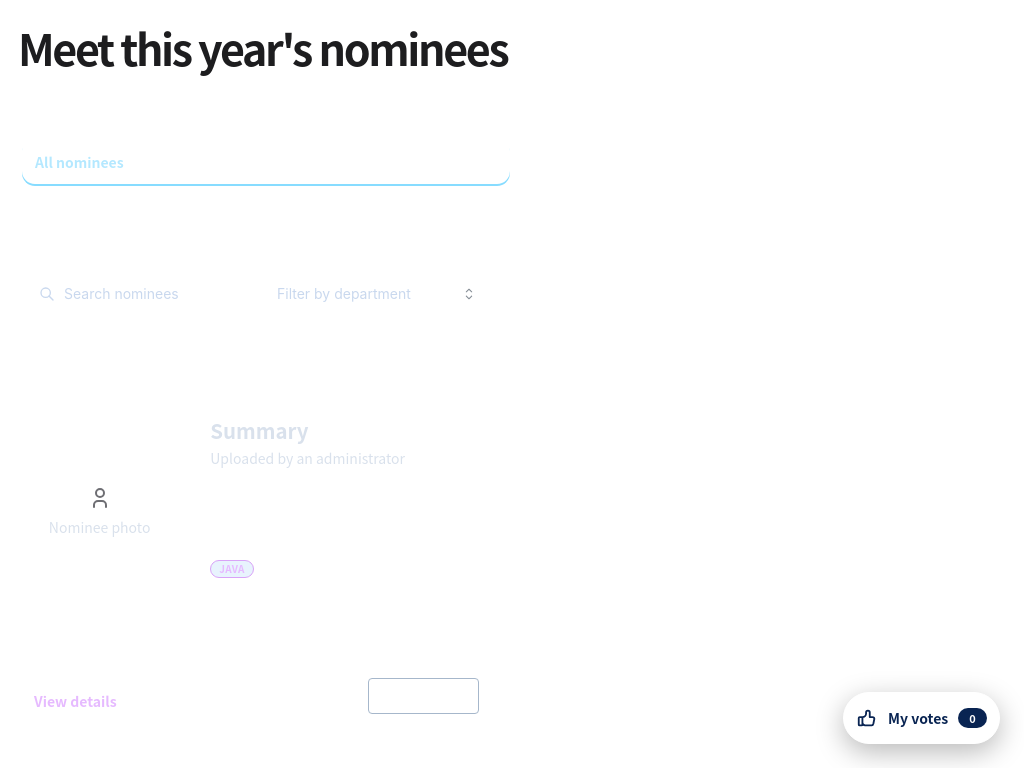
Test: ProjectShowcase › keeps selections in the cart without writing votes until Submit
Click the button with aria-label "Vote, 2 votes" at [424, 696], box [368,678,479,714]
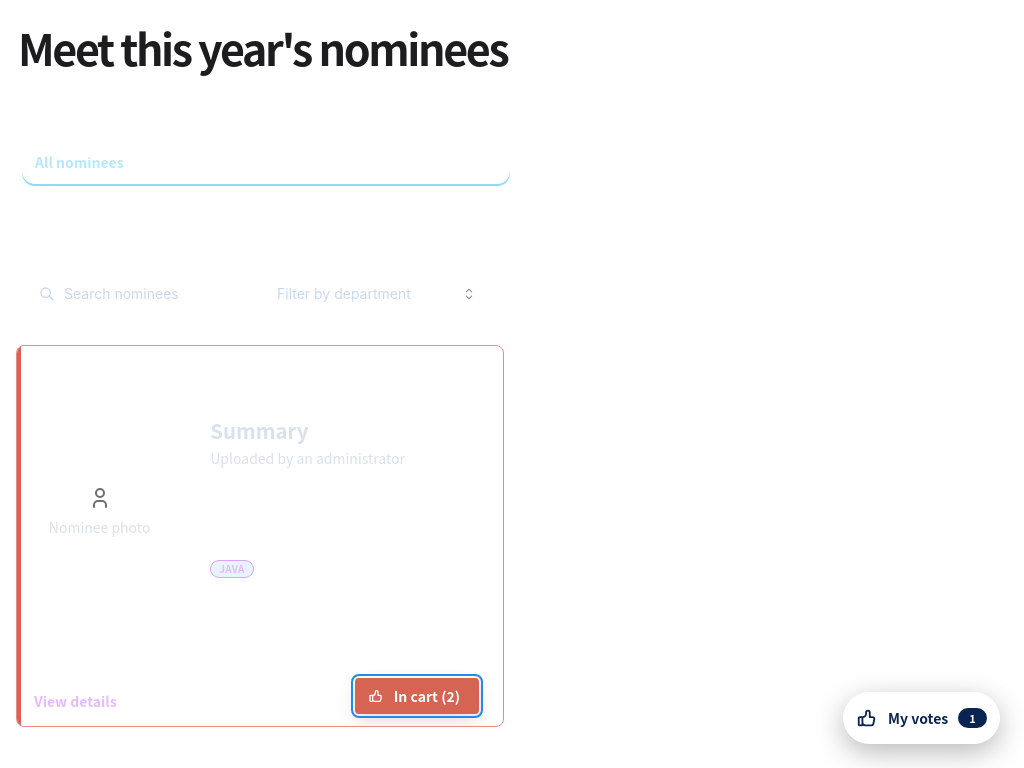
Click the button with aria-label "My votes (1)" at [922, 718], box [843,692,1000,744]
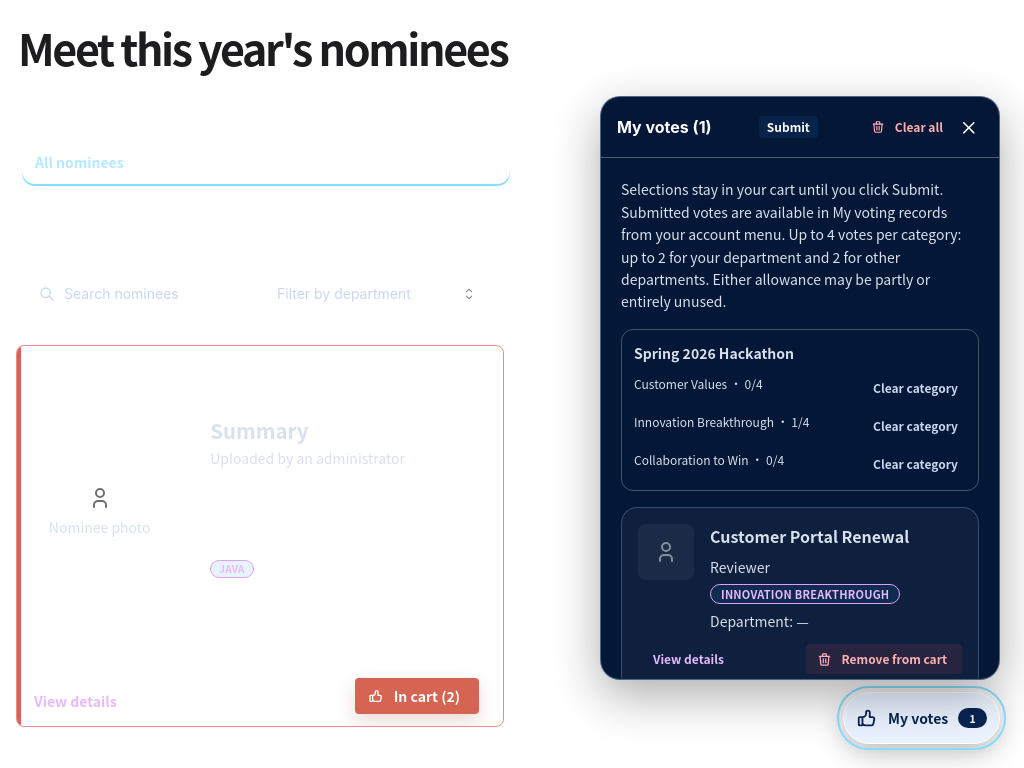
Expected: the button with aria-label "In cart, 2 votes" is shown, [355,678,479,714]
Expected: the text "Customer Portal Renewal" is shown, [710,524,909,548]
Click the button "Submit" at [788, 127], box [759,116,818,138]
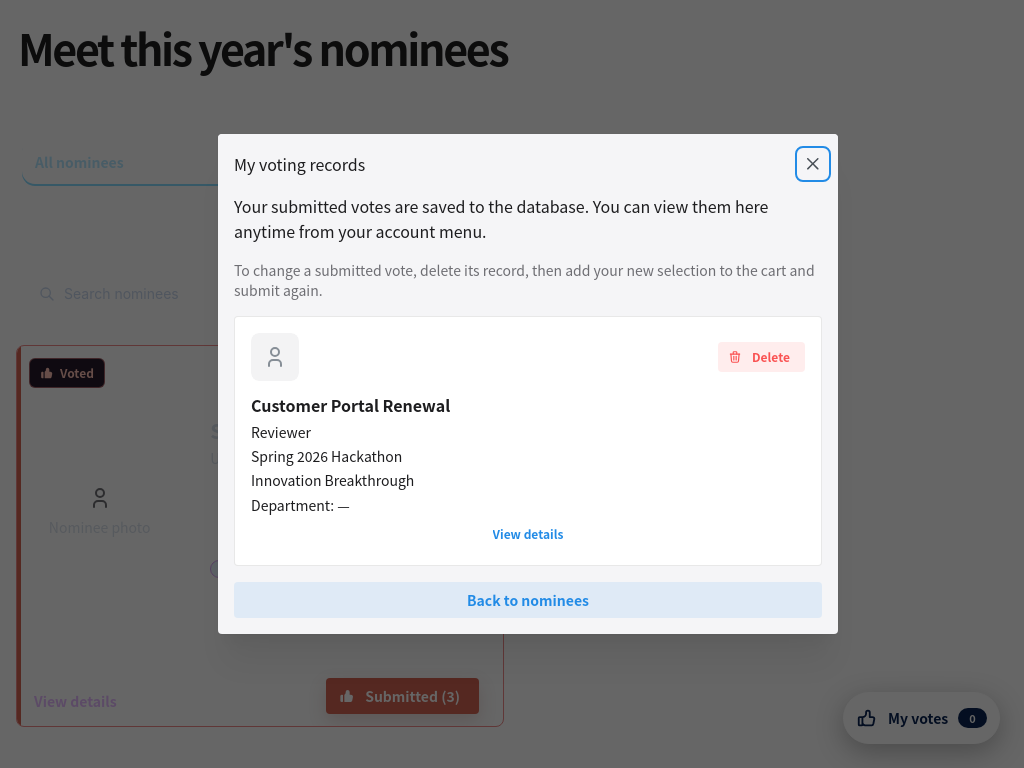
Expected: the text "Customer Portal Renewal" is shown, [251,393,450,417]
Expected: the message shows "saved to the database", [234,194,768,243]
Click the button "Back to nominees" at [528, 600], box [234,582,822,618]
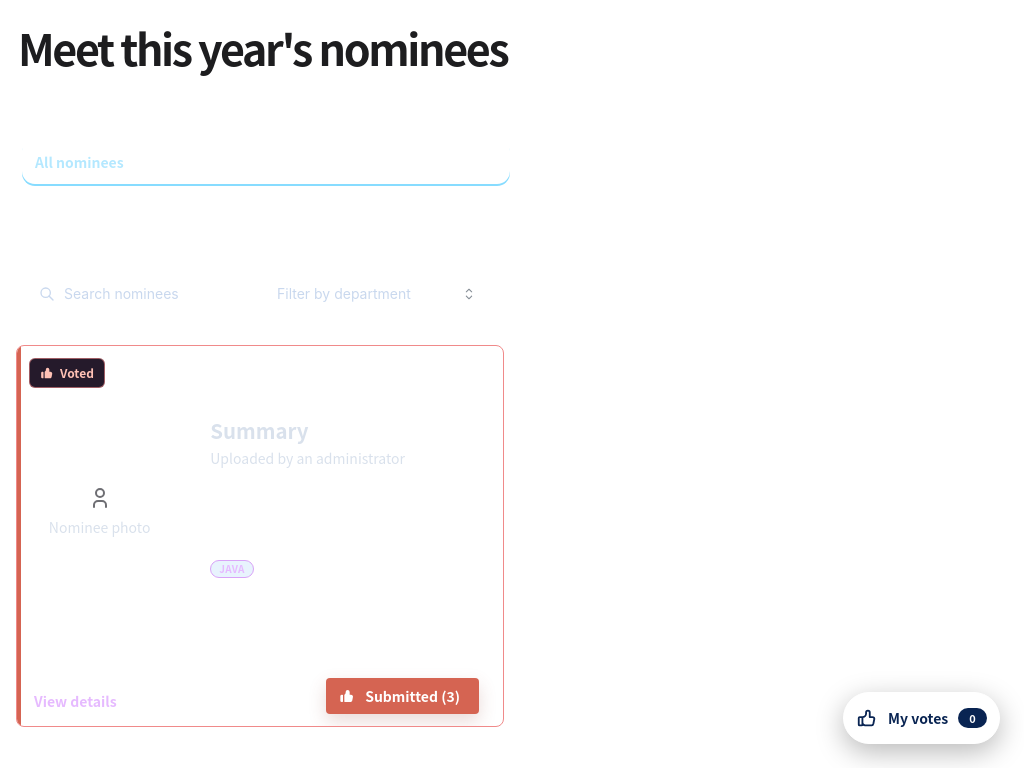
Click the button with aria-label "My votes (0)" at [922, 718], box [843,692,1000,744]
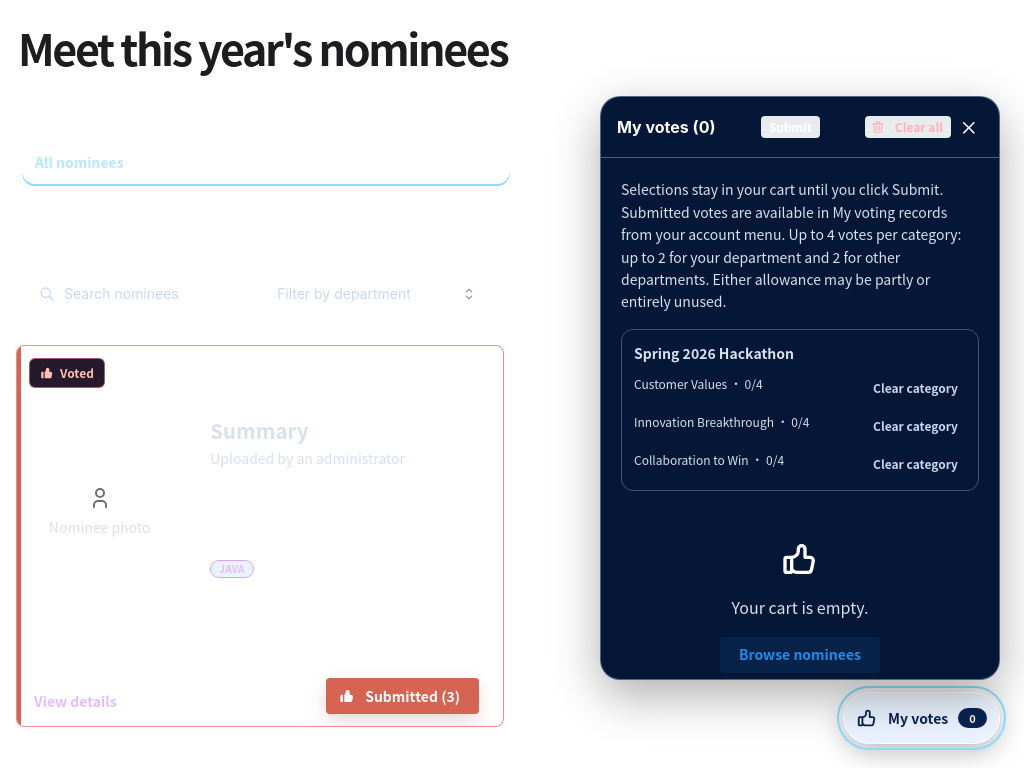
Expected: the text "Your cart is empty." is shown, [732,595,868,621]
Expected: the button "Submit" is disabled, [761,116,820,138]
